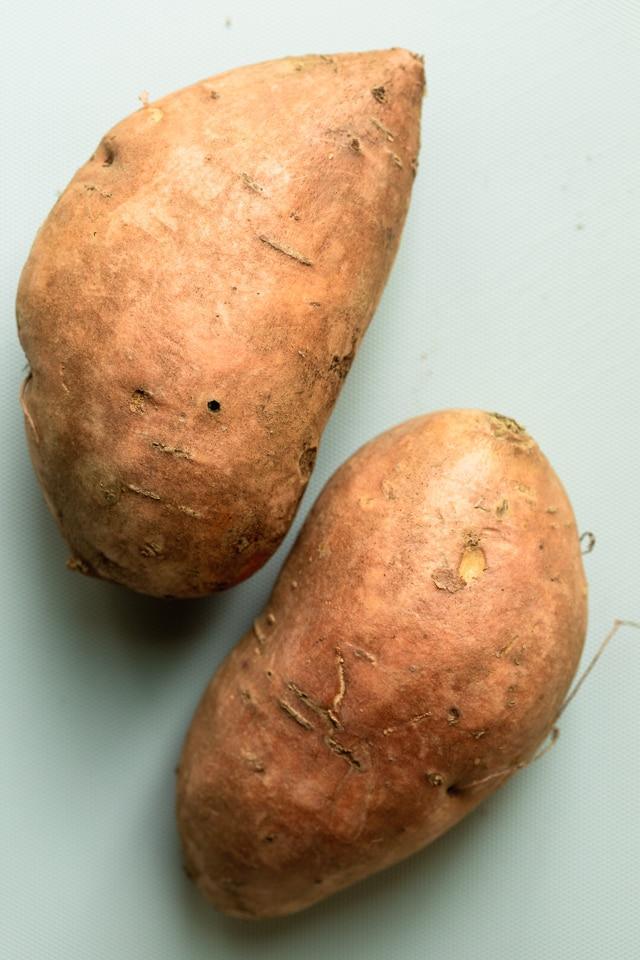turnip: (14, 45, 426, 600), (173, 406, 590, 921)
